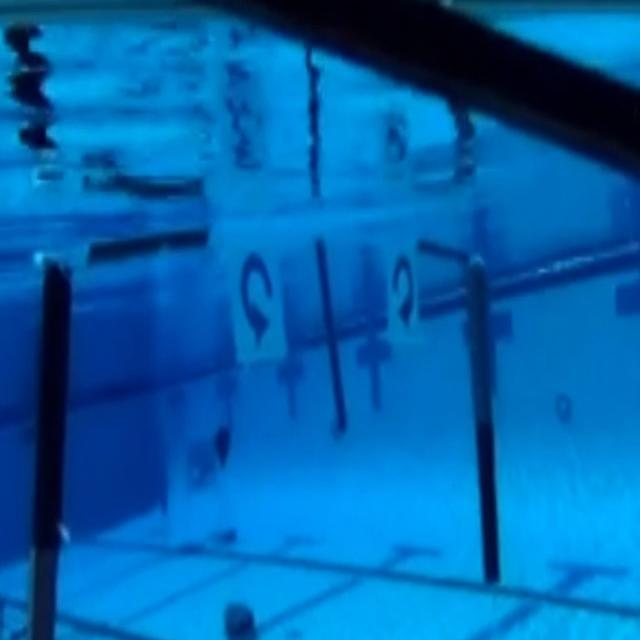Gate: (30, 216, 503, 640)
